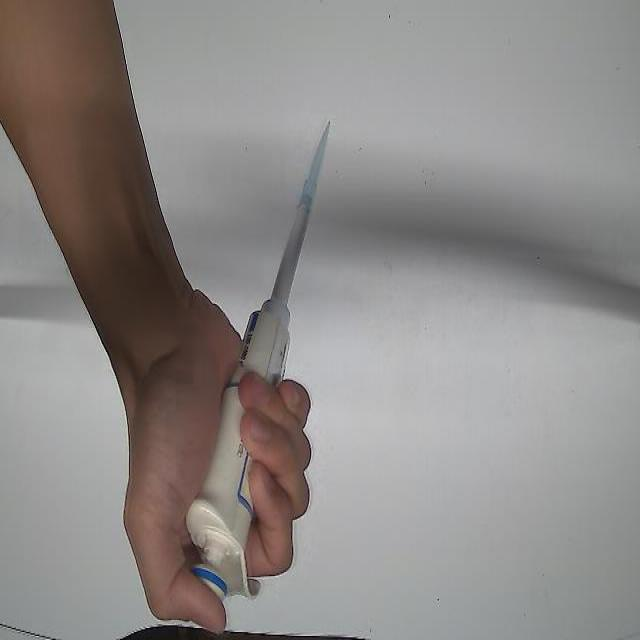Micropipette Tip 1000 uL: (300, 116, 334, 210)
Single Channel Pipettor: (182, 173, 322, 609)
